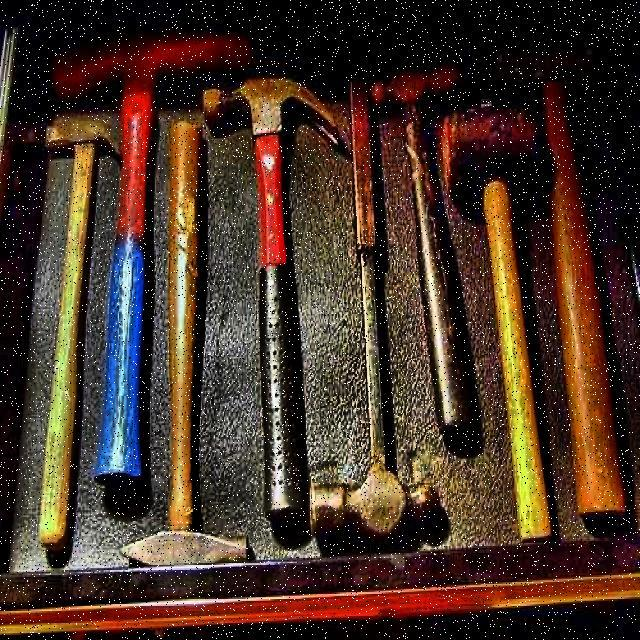hammer: (313, 72, 445, 538), (122, 122, 252, 566), (203, 78, 330, 524), (39, 113, 127, 557)
